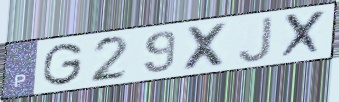2: (89, 34, 132, 83)
9: (141, 29, 179, 75)
G: (40, 41, 86, 88)
J: (236, 14, 275, 64)
X: (277, 7, 329, 61), (181, 20, 232, 72)
